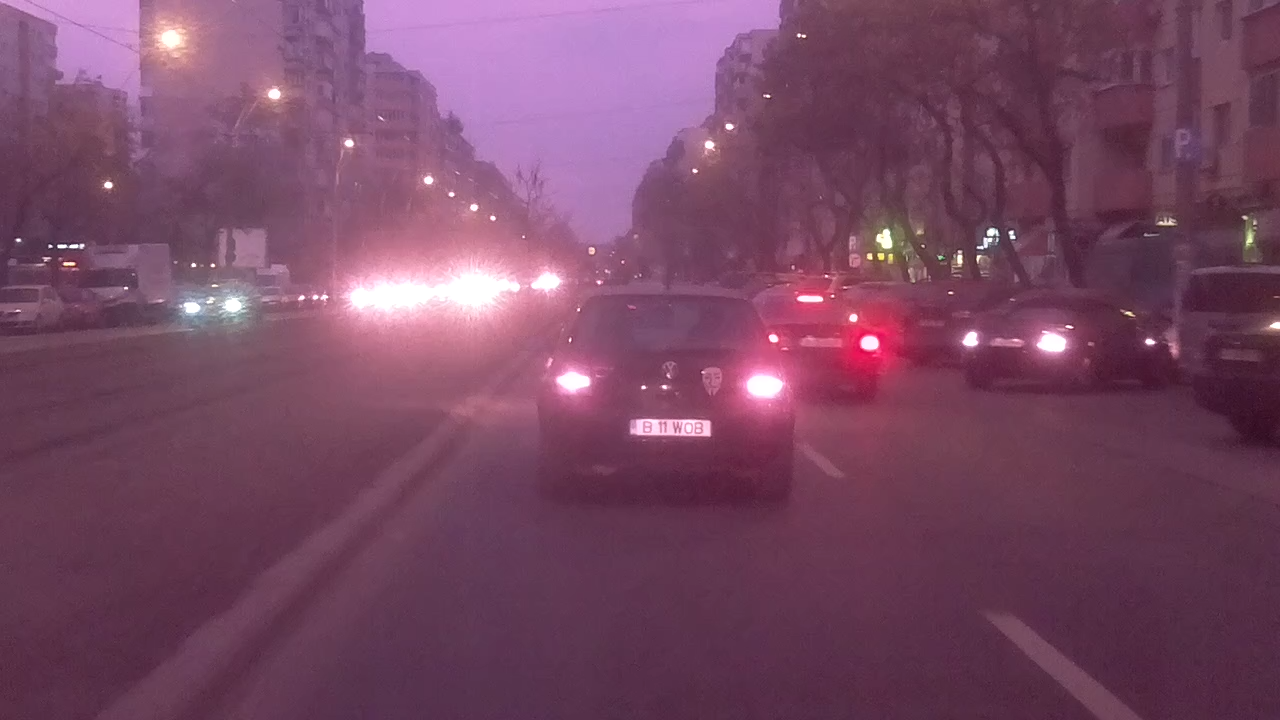license-plate: (625, 416, 714, 439)
